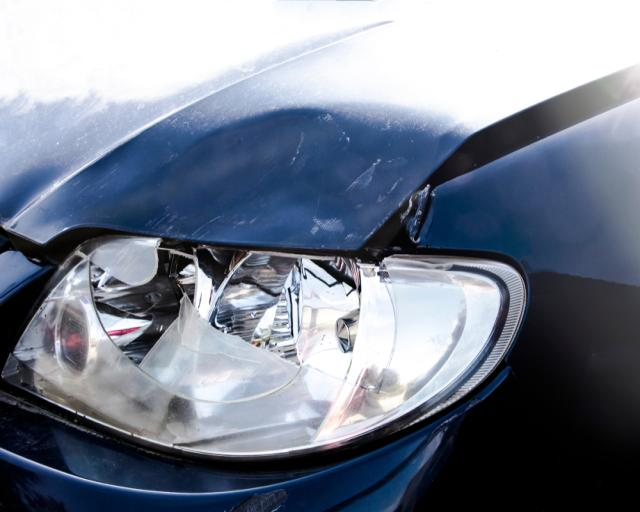dent: (78, 108, 462, 248)
lamp broken: (0, 234, 514, 458)
